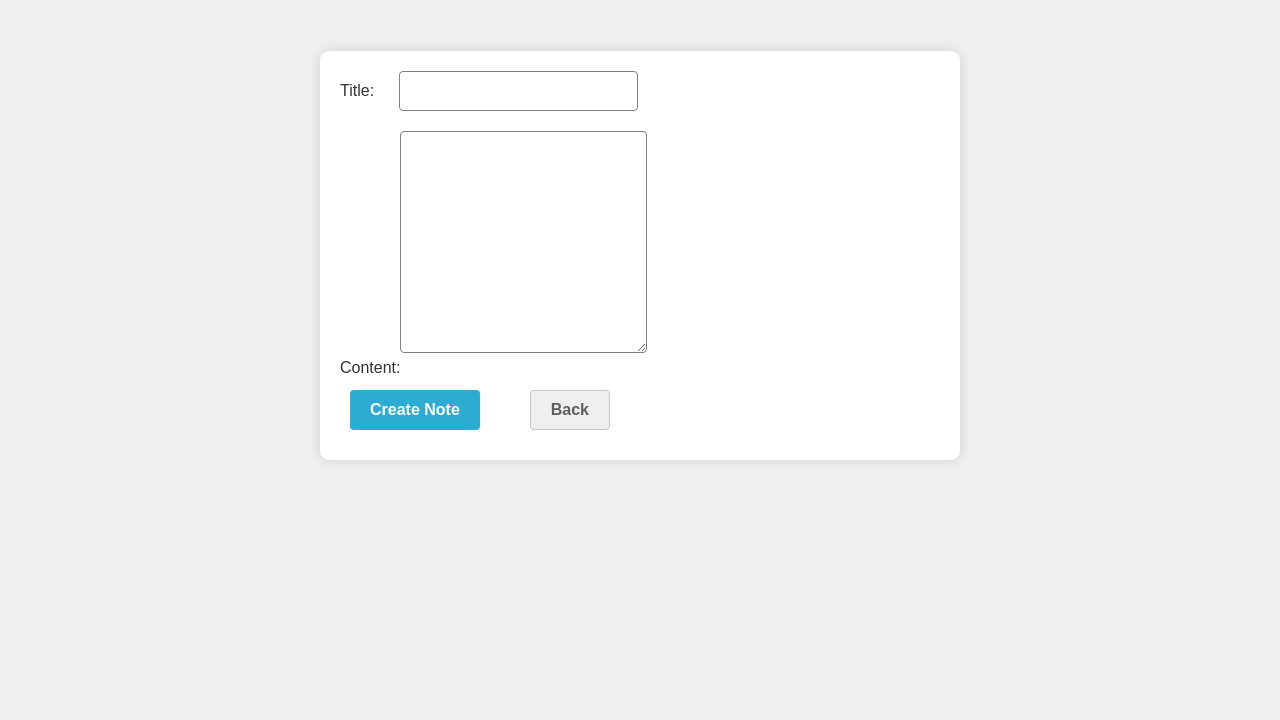
it: <CreateEditNote /> › shows confirmation dialog when Back is clicked with changes
Type "My New Note" into the field labelled "Title:" at point(519, 91), box [399,71,638,111]
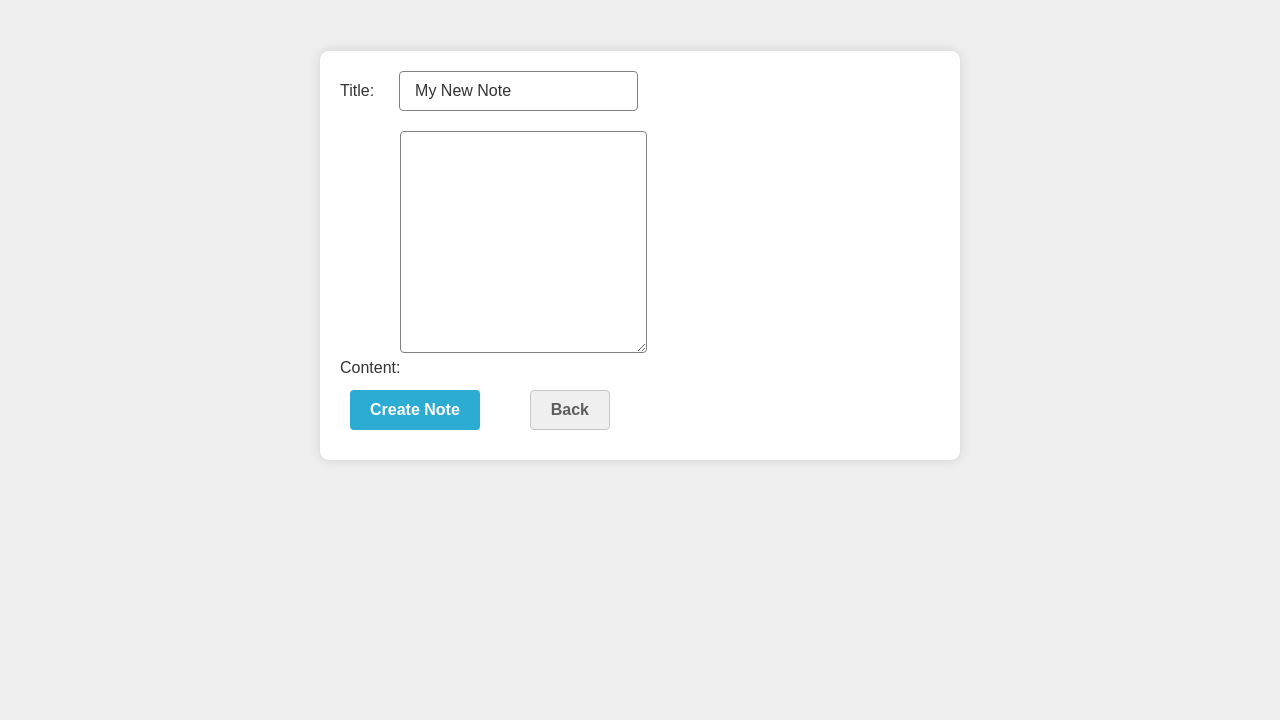
Click the button "Back" at point(570, 410), box [530,390,610,430]
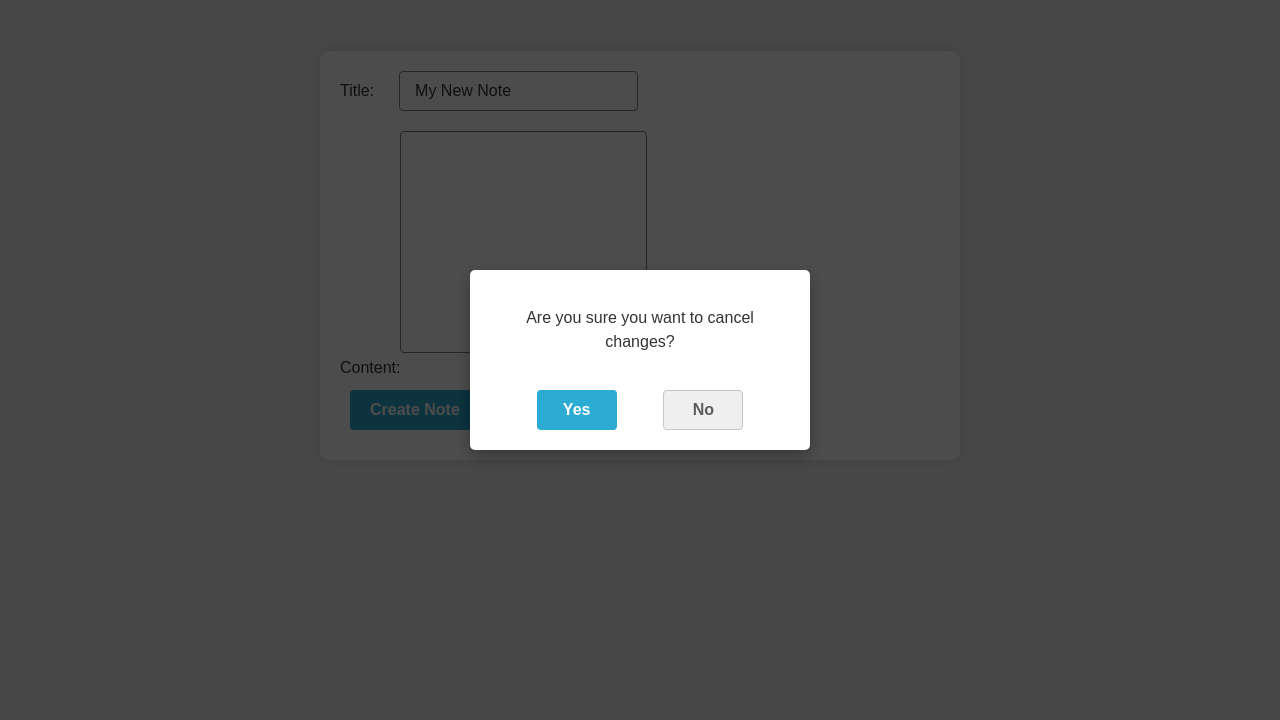
Now the text "Are you sure you want to cancel changes?" is shown, box [526,309,754,350]
